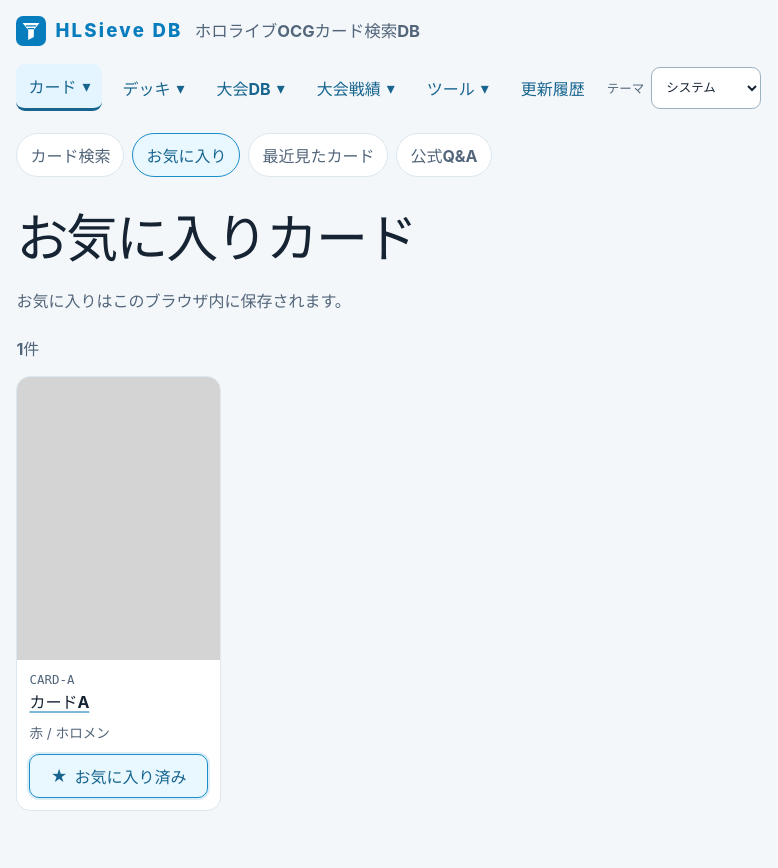
Test: FavoriteCardsPage › reports repository load and mutation failures
This screenshot has width=778, height=868.
Later steps or results of the test are not shown.
Click the button with aria-label "カードAをお気に入りから削除" at (119, 776), box x1=29 y1=754 x2=208 y2=798
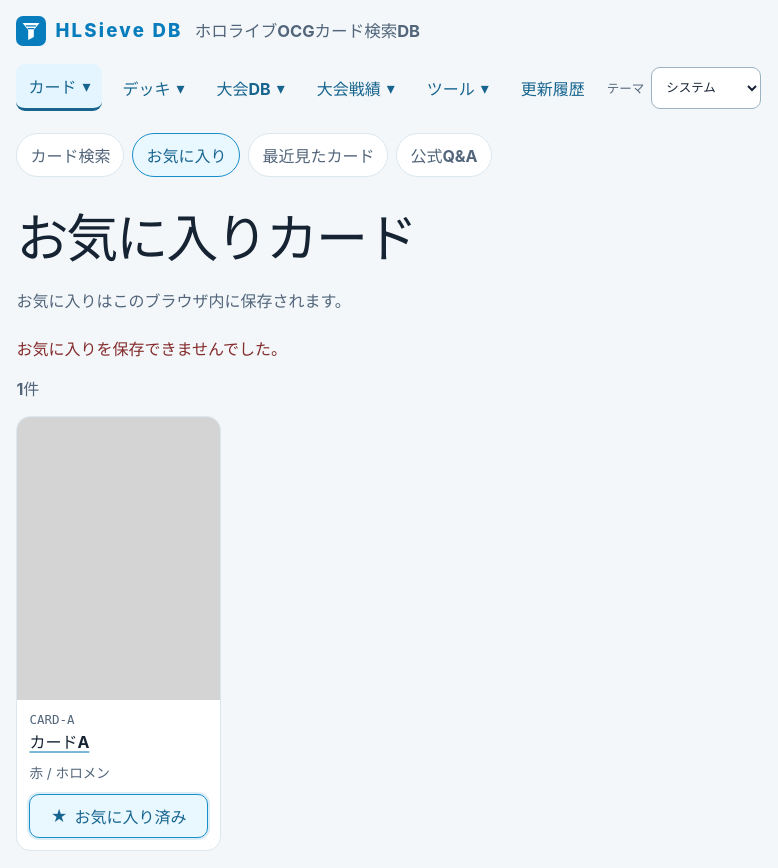
Check: the heading "カードA" is shown, box x1=29 y1=732 x2=89 y2=752
Check: the text "お気に入りを保存できませんでした。" is shown, box x1=16 y1=339 x2=287 y2=359
